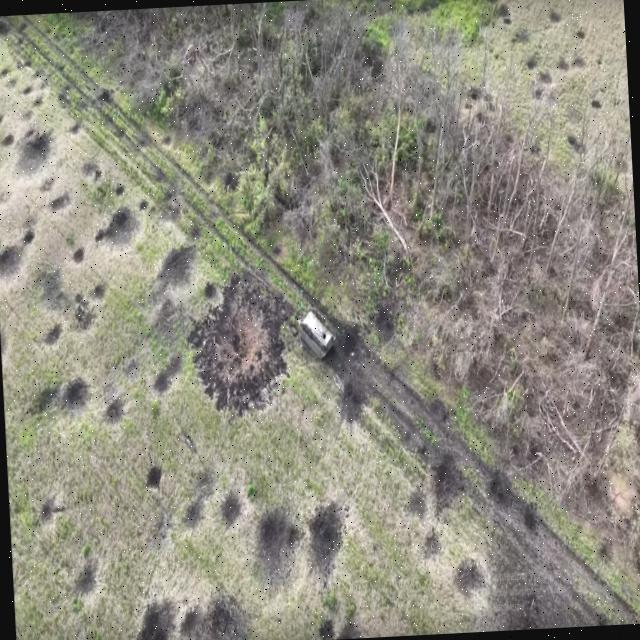APC: (297, 309, 340, 368)
